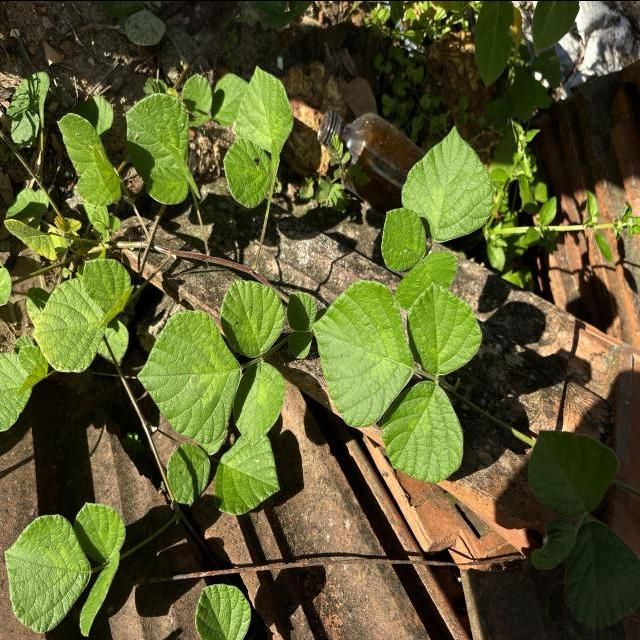Pseudarthria viscida: (310, 276, 486, 487), (134, 276, 292, 450), (2, 498, 128, 638)
